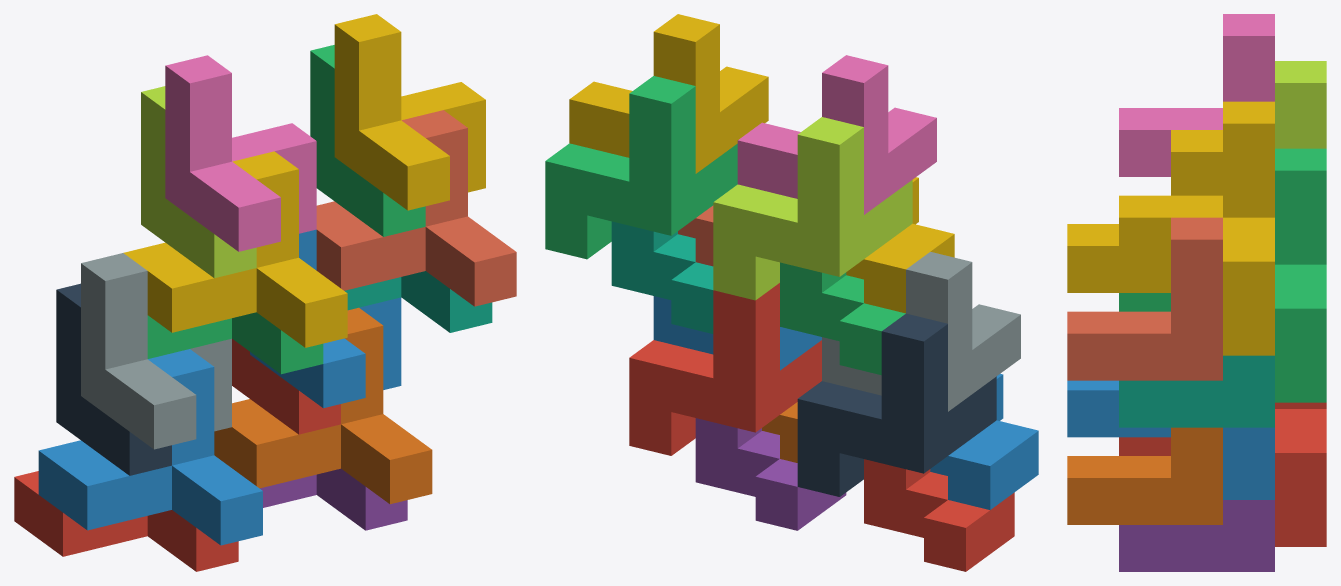
File: tiling.obj
The picture shows the model from 3 angles, left to right: view 1: azimuth 30°, elevation 25°; view 2: azimuth 150°, elevation 25°; view 3: azimuth 270°, elevation 25°; orthographic projection. The views are drawn at different scales.
Parts seen in each view (by area): view 1: copy_2_domain_8, copy_2_domain_4, copy_1_domain_2, copy_1_domain_4, copy_1_domain_6, copy_1_domain_8, copy_2_domain_2, copy_1_domain_1, copy_2_domain_1, copy_2_domain_3, copy_2_domain_7, copy_2_domain_6 (+4 smaller); view 2: copy_2_domain_3, copy_2_domain_1, copy_2_domain_7, copy_2_domain_5, copy_2_domain_8, copy_2_domain_4, copy_2_domain_2, copy_1_domain_1, copy_1_domain_5, copy_1_domain_3, copy_1_domain_7, copy_1_domain_2 (+4 smaller); view 3: copy_2_domain_8, copy_1_domain_8, copy_2_domain_7, copy_1_domain_6, copy_2_domain_4, copy_1_domain_7, copy_1_domain_5, copy_1_domain_4, copy_2_domain_5, copy_2_domain_3, copy_2_domain_6, copy_1_domain_2 (+2 smaller).
Part boxes in pixels (<box>): copy_2_domain_8: <box>334,14,485,210</box>; copy_2_domain_4: <box>165,55,316,251</box>; copy_1_domain_2: <box>38,349,262,545</box>; copy_1_domain_4: <box>123,151,347,347</box>; copy_1_domain_6: <box>214,307,432,504</box>; copy_1_domain_8: <box>316,110,516,306</box>; copy_2_domain_2: <box>81,253,231,449</box>; copy_1_domain_1: <box>14,471,238,571</box>; copy_2_domain_1: <box>56,283,171,475</box>; copy_2_domain_3: <box>141,86,256,278</box>; copy_2_domain_7: <box>310,45,425,236</box>; copy_2_domain_6: <box>250,229,401,408</box>; copy_2_domain_3: <box>713,117,912,300</box>; copy_2_domain_1: <box>797,313,996,496</box>; copy_2_domain_7: <box>545,76,737,259</box>; copy_2_domain_5: <box>629,283,821,455</box>; copy_2_domain_8: <box>569,14,768,173</box>; copy_2_domain_4: <box>737,55,936,214</box>; copy_2_domain_2: <box>822,252,1020,411</box>; copy_1_domain_1: <box>864,459,1014,571</box>; copy_1_domain_5: <box>695,418,846,530</box>; copy_1_domain_3: <box>780,262,905,375</box>; copy_1_domain_7: <box>611,221,713,333</box>; copy_1_domain_2: <box>930,373,1038,509</box>; copy_2_domain_8: <box>1119,101,1274,355</box>; copy_1_domain_8: <box>1067,217,1222,380</box>; copy_2_domain_7: <box>1275,148,1326,402</box>; copy_1_domain_6: <box>1067,427,1222,524</box>; copy_2_domain_4: <box>1119,14,1274,176</box>; copy_1_domain_7: <box>1119,355,1274,427</box>; copy_1_domain_5: <box>1119,500,1274,571</box>; copy_1_domain_4: <box>1067,130,1222,292</box>; copy_2_domain_5: <box>1275,402,1326,546</box>; copy_2_domain_3: <box>1275,61,1326,148</box>; copy_2_domain_6: <box>1223,427,1274,499</box>; copy_1_domain_2: <box>1067,380,1170,437</box>.
Bounding box in the file's own units: 10 × 10 × 5.
